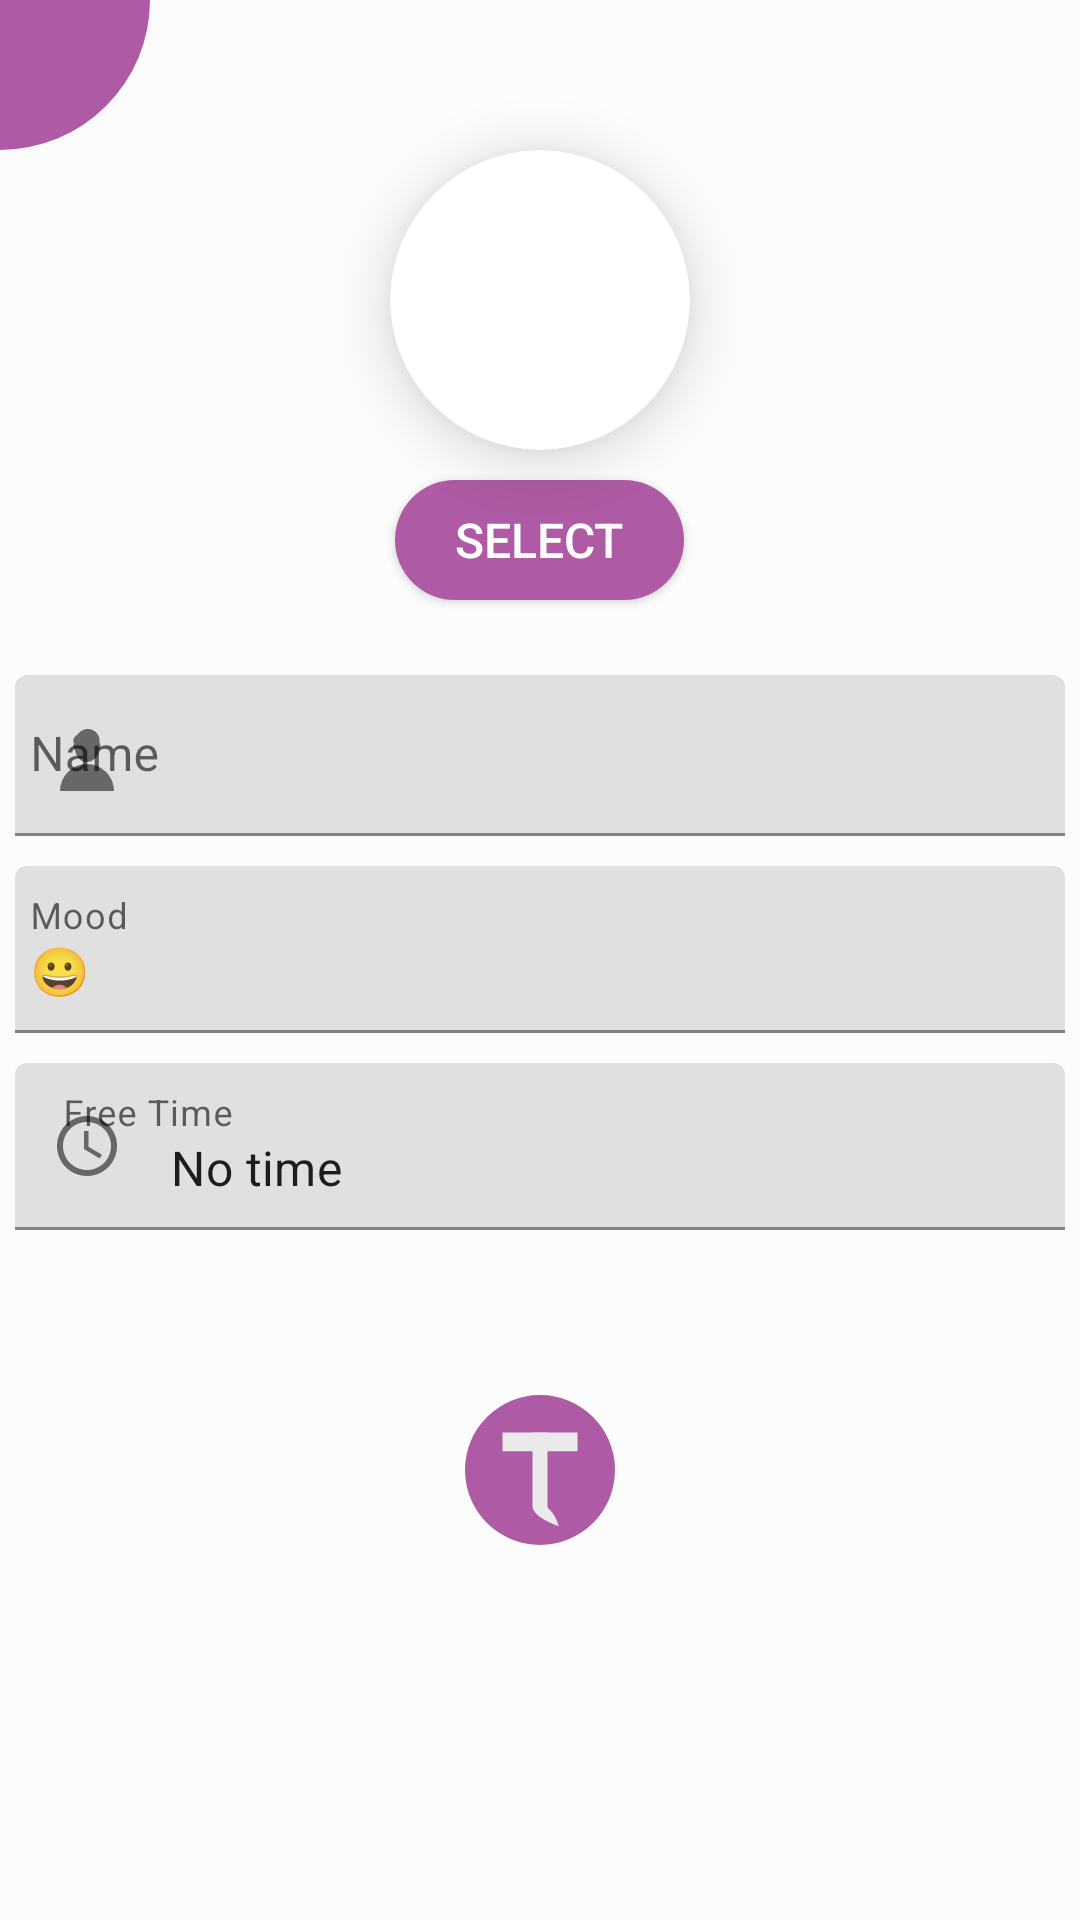

Screen size 1080 x 1920. Icon name, then its center in pixels as (x,y):
app: (540,1470)
